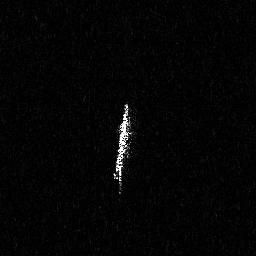ship: (112, 101, 135, 200)
